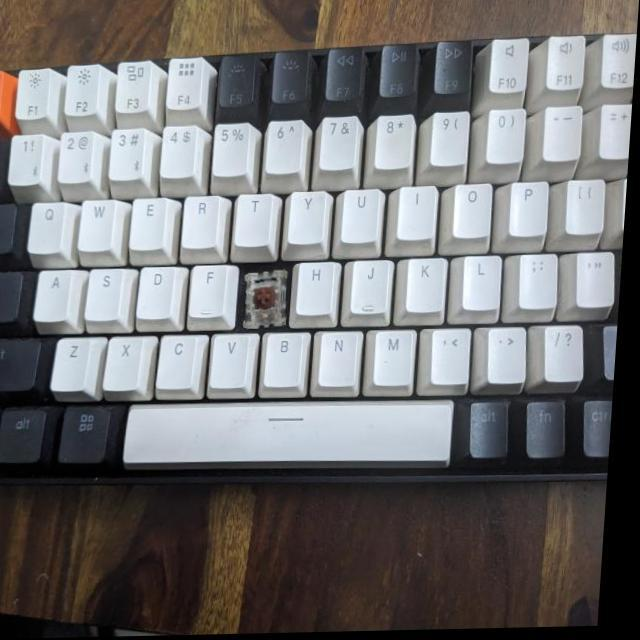key-switch: (246, 265, 293, 332)
